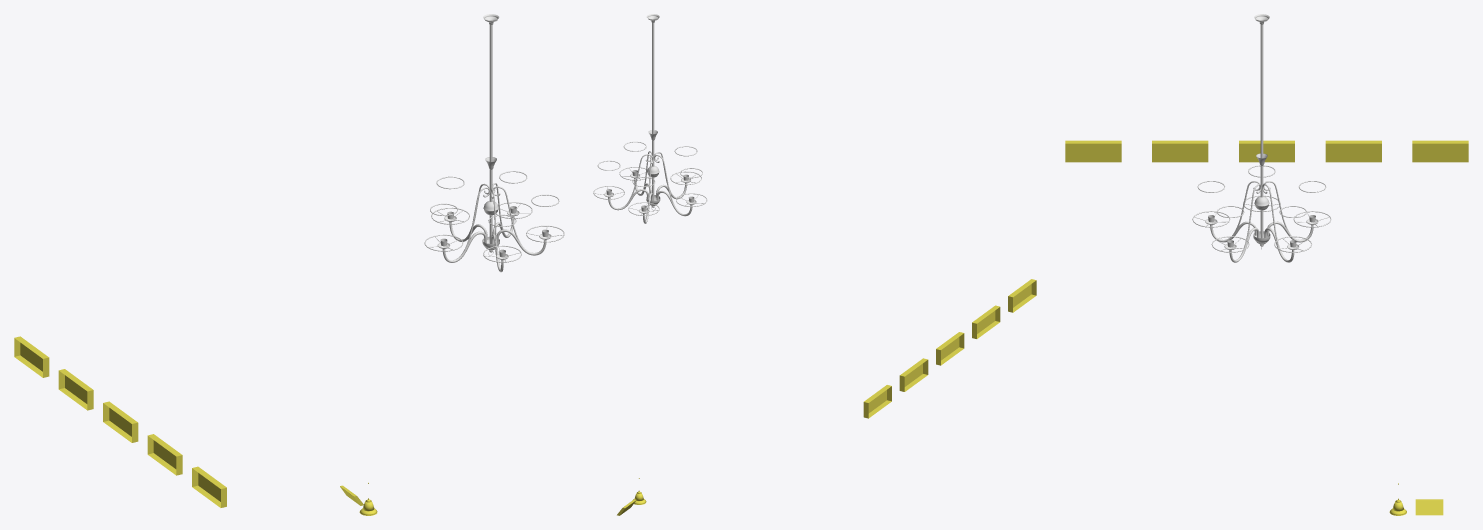
The model's file is receptionMetal.glb.
3 renders of one model, left to right at view 1: azimuth 30°, elevation 25°; view 2: azimuth 150°, elevation 25°; view 3: azimuth 270°, elevation 25°, orthographic. The views are drawn at different scales.
Parts seen in each view (by area): view 1: gold, metal; view 2: gold, metal; view 3: gold, metal.
Part boxes in pixels (bbox=[...]): gold: bbox=[14, 336, 377, 515]; metal: bbox=[424, 14, 564, 272]; gold: bbox=[617, 279, 1036, 515]; metal: bbox=[593, 14, 707, 223]; gold: bbox=[1065, 140, 1468, 515]; metal: bbox=[1192, 14, 1331, 262].
Size of the model in its own units: 2.77 by 3.31 by 2.32.
